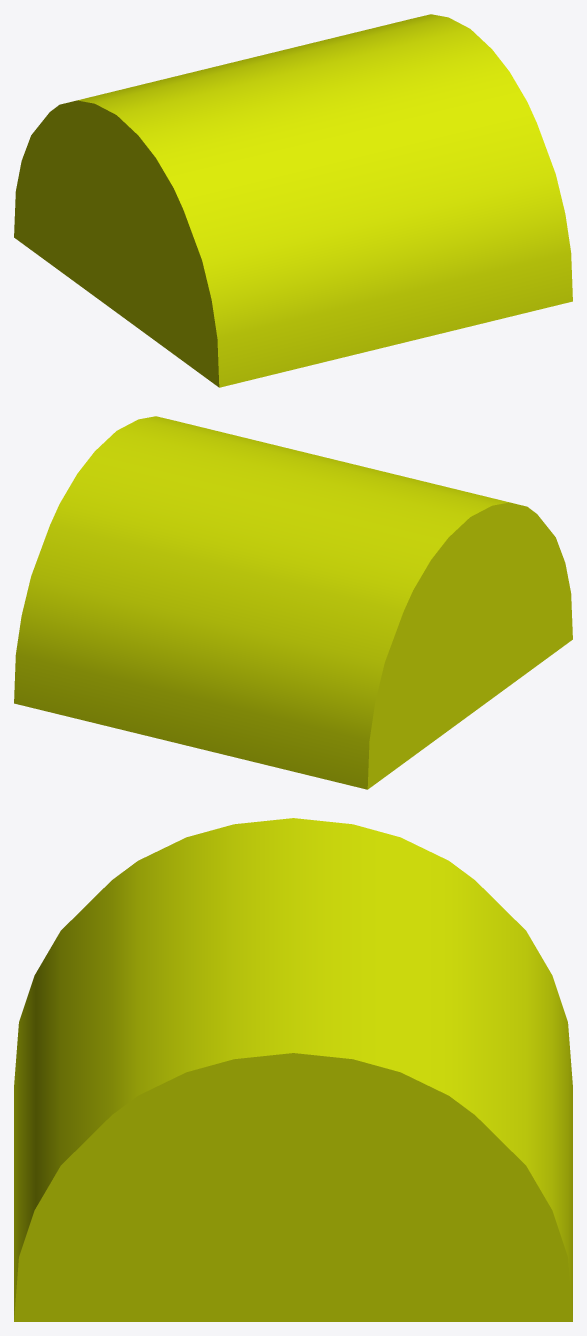
Rendered from Building block-half-Arch.fbx.
3 views of the same model, one above another, from view 1: azimuth 30°, elevation 25°; view 2: azimuth 150°, elevation 25°; view 3: azimuth 270°, elevation 25° (orthographic). The views are drawn at different scales.
Visible parts, largest first — view 1: Building block-half-Arch; view 2: Building block-half-Arch; view 3: Building block-half-Arch.
Part boxes in pixels (x1,y1,x2,y2): Building block-half-Arch: (14, 14, 572, 387); Building block-half-Arch: (14, 416, 572, 789); Building block-half-Arch: (14, 818, 572, 1321).
Bounding box in the file's own units: 199 × 106 × 200.
